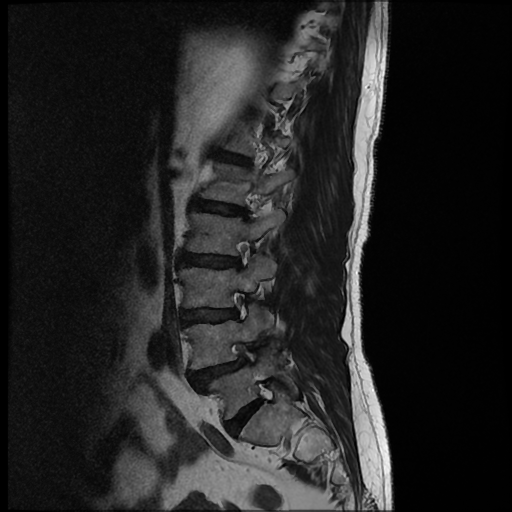RFS0: (224, 282, 259, 328), (226, 233, 257, 277)
RFS2: (226, 335, 267, 370)
